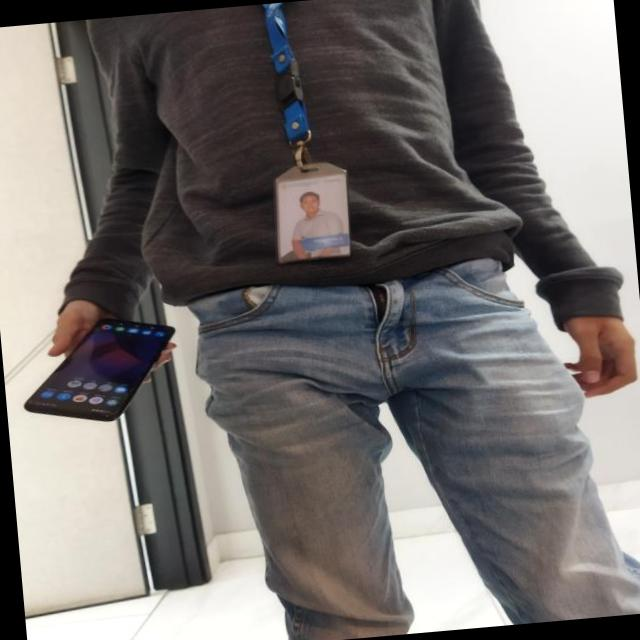id_card: (241, 0, 357, 284)
